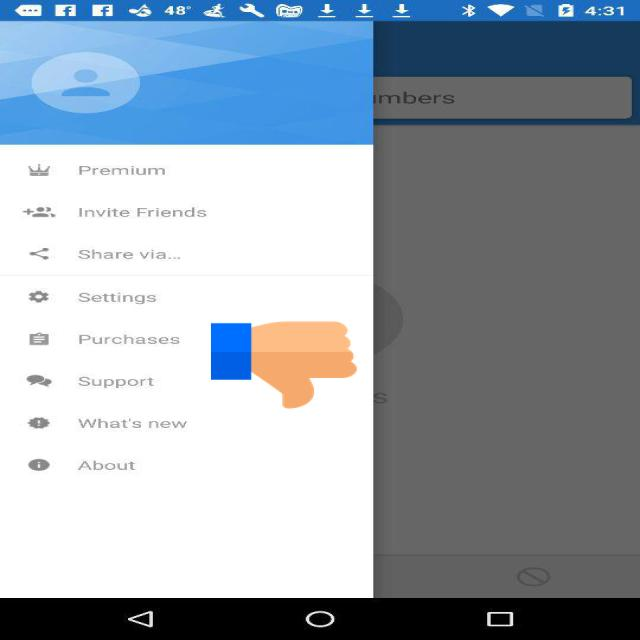obstruction: (211, 319, 357, 411)
